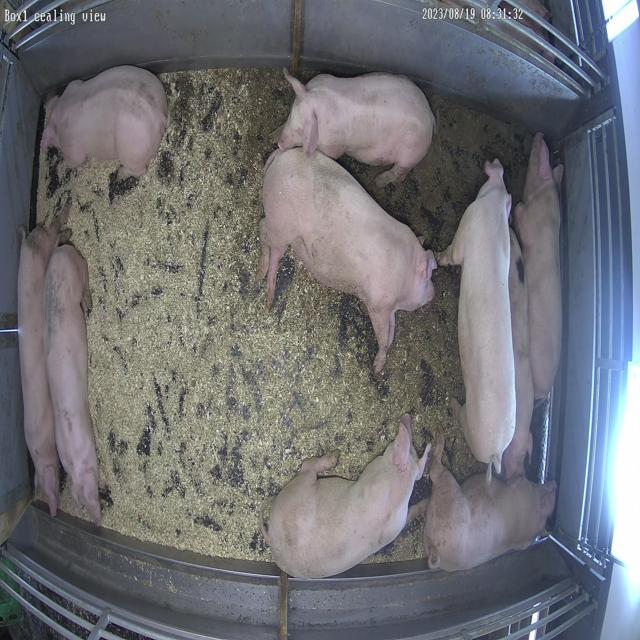Dirt: (338, 94, 533, 252), (397, 267, 465, 432)
Pig: (261, 148, 437, 376), (262, 417, 431, 578), (438, 159, 517, 472), (274, 72, 436, 186), (425, 437, 557, 572), (46, 244, 99, 526), (41, 65, 168, 176), (515, 132, 564, 400), (17, 221, 61, 516), (504, 229, 535, 480)
